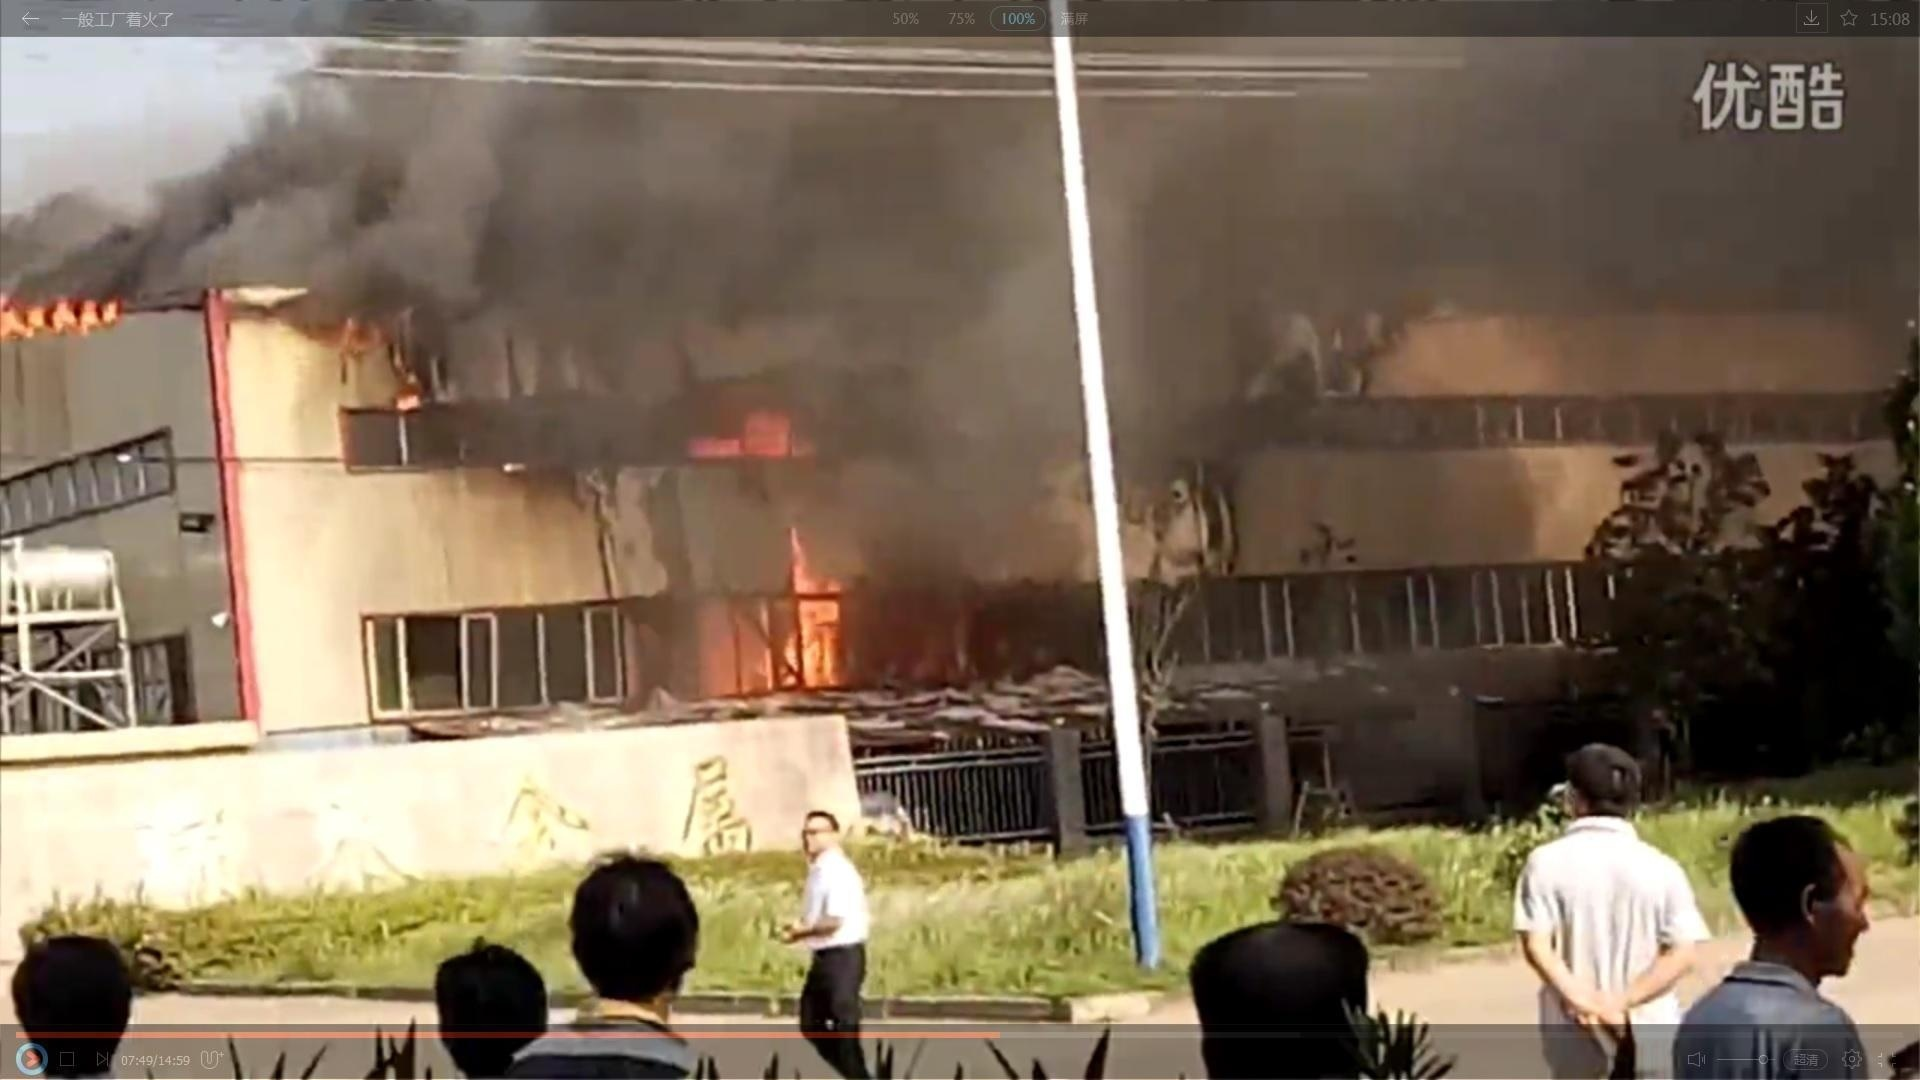fire: (773, 539, 849, 686), (4, 289, 127, 342)
